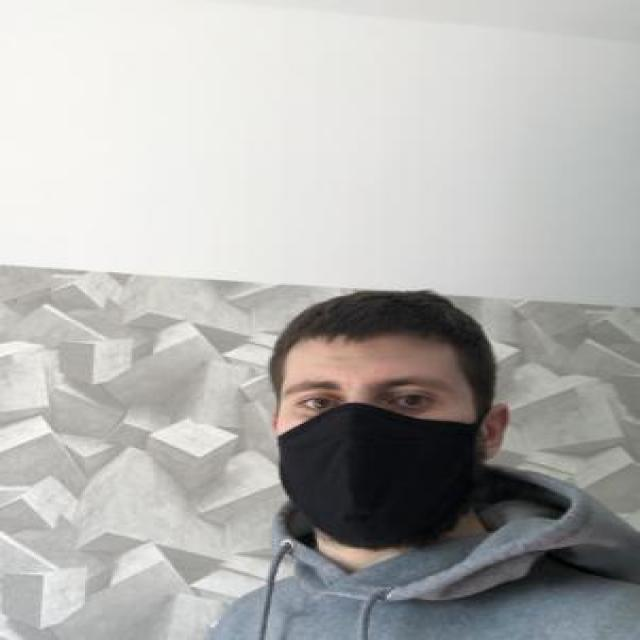with_mask: (278, 358, 482, 553)
